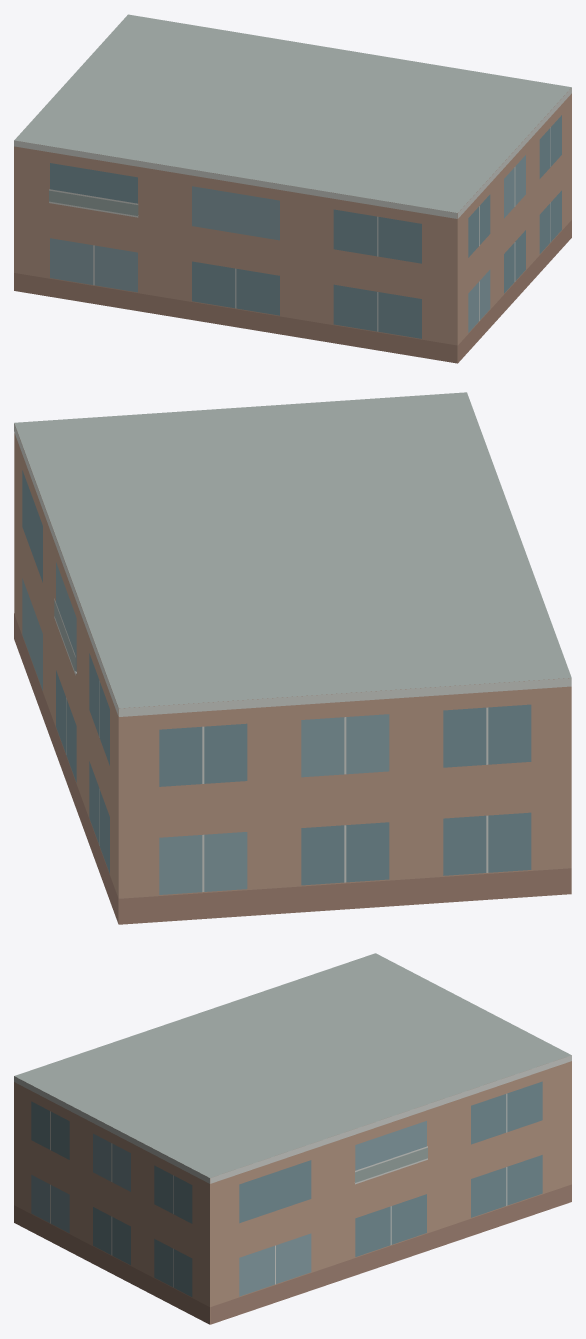
The model's file is survey-upis-32805130.glb.
3 views of the same model, one above another, from view 1: azimuth 30°, elevation 25°; view 2: azimuth 150°, elevation 25°; view 3: azimuth 270°, elevation 25° (orthographic). The views are drawn at different scales.
Parts seen in each view (by area): view 1: survey-upis-32805130.tmp; view 2: survey-upis-32805130.tmp; view 3: survey-upis-32805130.tmp.
Part boxes in pixels (x1,y1,x2,y2): survey-upis-32805130.tmp: (14, 14, 571, 363); survey-upis-32805130.tmp: (14, 392, 571, 924); survey-upis-32805130.tmp: (14, 953, 571, 1324).
Size of the model in its own units: 20.08 by 6.1 by 21.03.
